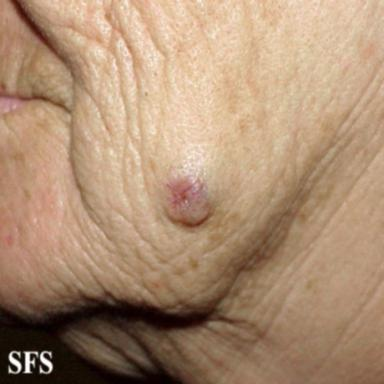basal-cell-carcinoma: (165, 174, 210, 225)
